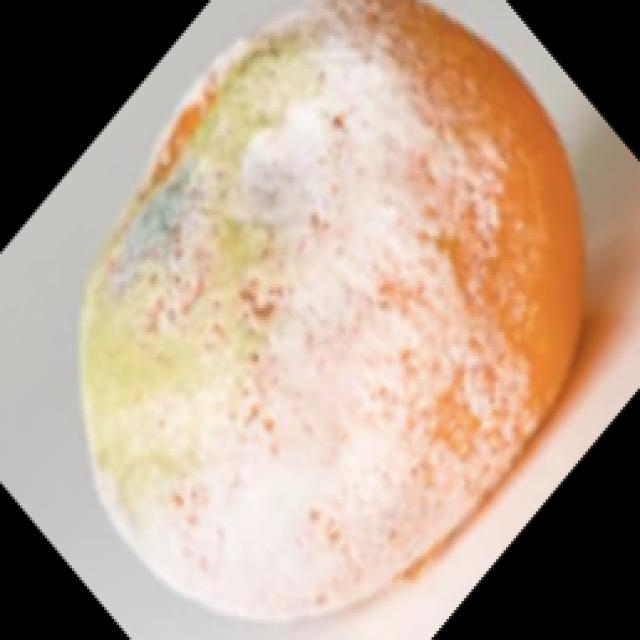sangat_busuk: (75, 0, 587, 621)
